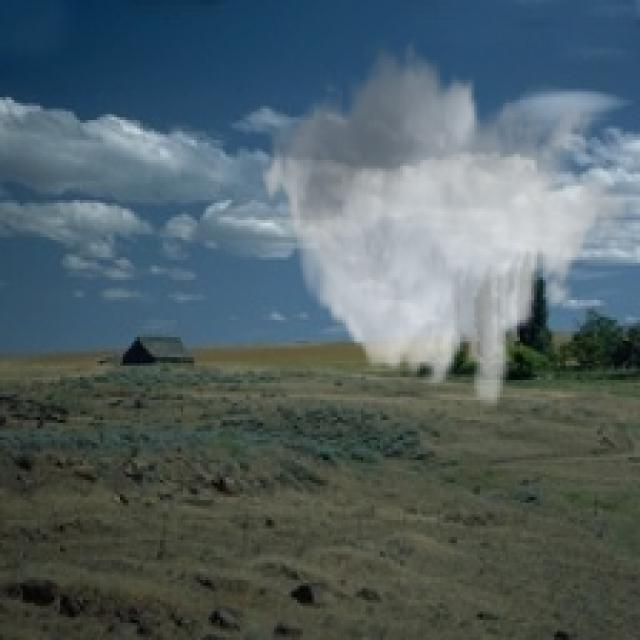smoke: (257, 37, 629, 414)
